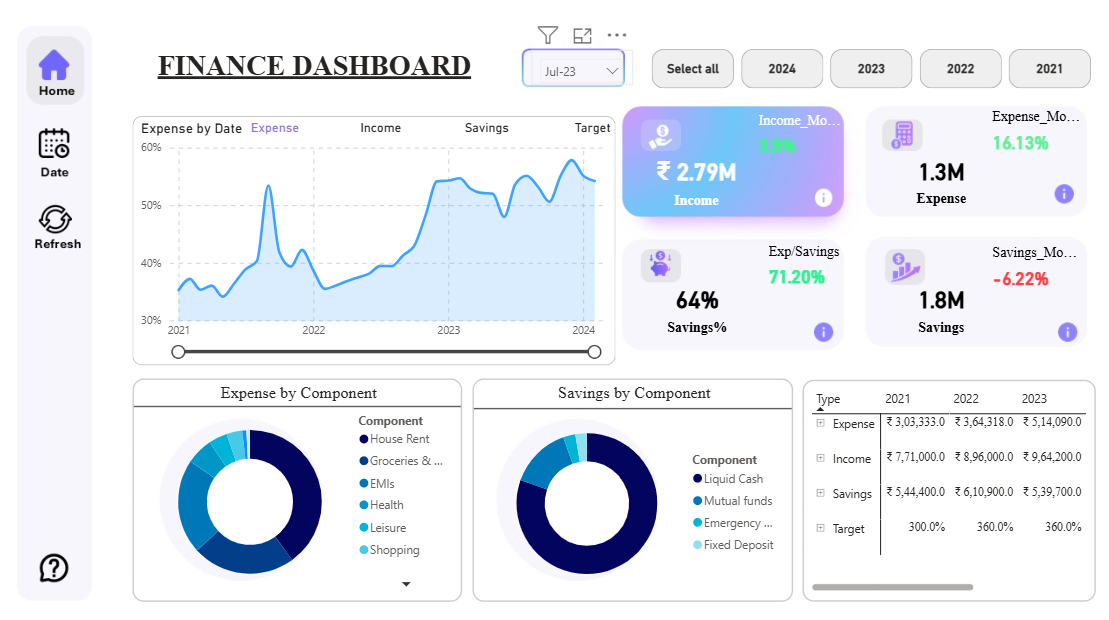

What the dashboard file says about the page in this screenshot:
{"tool":"powerbi","page":{"name":"Overview","canvas":[1280,720],"ordinal":0},"visuals":[{"type":"cardVisual","fields":{"Data":["Dataset.Income"]},"box":[708.3,160,186.7,110],"z":0},{"type":"cardVisual","fields":{"Data":["Dataset.Savings"]},"box":[1001.7,311.7,160,96.7],"z":1000},{"type":"cardVisual","fields":{"Data":["Dataset.Savings%"]},"box":[728.3,311.7,148.3,96.7],"z":2000},{"type":"advancedSlicerVisual","fields":{"Values":["Dataset.Year"]},"box":[745,55,513.3,55],"z":3000},{"type":"cardVisual","fields":{"Data":["Dataset.Expense"]},"box":[1001.7,165,160,98.3],"z":4000},{"type":"donutChart","fields":{"Y":["Dataset.Savings"],"Category":["Dataset.Component"]},"box":[545,436.7,366.7,255],"z":5000},{"type":"donutChart","fields":{"Category":["Dataset.Component"],"Y":["Dataset.Expense"]},"box":[156.7,436.7,376.7,255],"z":6000},{"type":"pivotTable","fields":{"Values":["Dataset.Total_Value"],"Rows":["Dataset.Type","Dataset.Component"],"Columns":["Dataset.Year"]},"box":[923.3,438.3,335,253.3],"z":7000},{"type":"areaChart","fields":{"Category":["Dataset.Date"],"Y":["Dataset.Line_Chart_Measure"]},"box":[156.7,136.7,551.7,285],"z":8000},{"type":"advancedSlicerVisual","fields":{"Values":["Line_Selection_Table.Type"]},"box":[258.3,123.3,486.7,51.7],"z":9000},{"type":"textbox","box":[78.6,55.7,572.9,51.4],"z":10000},{"type":"slicer","fields":{"Values":["Selected_Date.Month-Yr"]},"box":[613.3,61.7,115,40],"z":11000},{"type":"cardVisual","fields":{"Data":["Dataset.Expense_Monthly_Gr"]},"box":[1122.9,111.4,135.7,85.7],"z":12000},{"type":"cardVisual","fields":{"Data":["Dataset.Income_Monthly_Gr"]},"box":[855.7,117.1,134.3,80],"z":13000},{"type":"cardVisual","fields":{"Data":["Dataset.Savings_Monthly_Gr"]},"box":[1122.9,264.3,135.7,90],"z":14000},{"type":"cardVisual","fields":{"Data":["Dataset.Exp_vs_Sav"]},"box":[866.7,263.3,135,90],"z":15000},{"type":"actionButton","box":[45,145,63.3,55],"z":16000},{"type":"actionButton","box":[45,230,63.3,66.7],"z":18000},{"type":"actionButton","box":[45,633.3,63.3,40],"z":19000}]}

Visuals, with their boxes on the page's 1280x720 design canvas (x1, y1, x2, y2). These are canvas units, not pixel positions in the 1109x620 screenshot, which may show the page scaled, cropped or inside an application window:
cardVisual - Dataset.Income: 708:160:895:270
cardVisual - Dataset.Savings: 1002:312:1162:408
cardVisual - Dataset.Savings%: 728:312:877:408
advancedSlicerVisual - Dataset.Year: 745:55:1258:110
cardVisual - Dataset.Expense: 1002:165:1162:263
donutChart - Dataset.Savings x Dataset.Component: 545:437:912:692
donutChart - Dataset.Component x Dataset.Expense: 157:437:533:692
pivotTable - Dataset.Total_Value x Dataset.Type: 923:438:1258:692
areaChart - Dataset.Date x Dataset.Line_Chart_Measure: 157:137:708:422
advancedSlicerVisual - Line_Selection_Table.Type: 258:123:745:175
textbox: 79:56:652:107
slicer - Selected_Date.Month-Yr: 613:62:728:102
cardVisual - Dataset.Expense_Monthly_Gr: 1123:111:1259:197
cardVisual - Dataset.Income_Monthly_Gr: 856:117:990:197
cardVisual - Dataset.Savings_Monthly_Gr: 1123:264:1259:354
cardVisual - Dataset.Exp_vs_Sav: 867:263:1002:353
actionButton: 45:145:108:200
actionButton: 45:230:108:297
actionButton: 45:633:108:673
